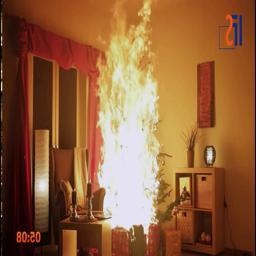fire: (88, 0, 176, 236)
